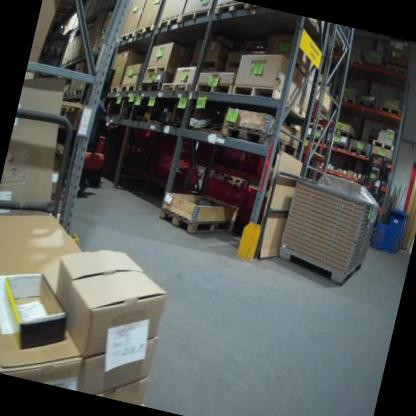pallet: (216, 118, 304, 161), (230, 79, 311, 118), (158, 203, 236, 242), (194, 74, 235, 105), (177, 0, 213, 32), (211, 0, 258, 24), (158, 75, 195, 102), (185, 53, 224, 77), (154, 7, 184, 37), (144, 60, 180, 81), (136, 76, 163, 102), (133, 20, 156, 45), (371, 139, 399, 158), (333, 92, 359, 110), (355, 97, 380, 115), (115, 26, 135, 48), (329, 127, 357, 141), (379, 106, 403, 122), (119, 81, 137, 100), (302, 121, 326, 135), (325, 139, 348, 153), (346, 147, 370, 160), (306, 134, 328, 146), (106, 83, 122, 99), (69, 54, 80, 66), (65, 89, 76, 101), (85, 45, 94, 59), (95, 42, 104, 53), (75, 89, 83, 101), (64, 59, 71, 68), (58, 61, 65, 70)
pallet_truck: (67, 65, 126, 199), (350, 147, 394, 237)
stillage: (271, 171, 383, 293)
